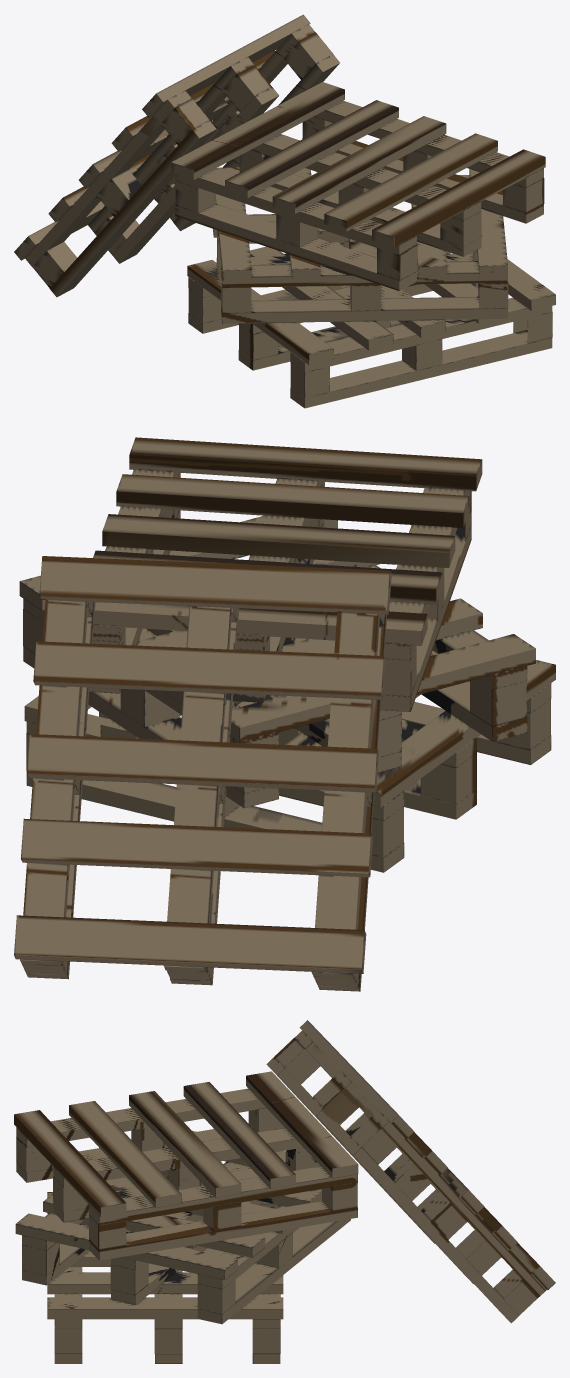
Rendered from pallet1modelo.fbx.
3 renders of one model, top to bottom at view 1: azimuth 30°, elevation 25°; view 2: azimuth 150°, elevation 25°; view 3: azimuth 270°, elevation 25°, orthographic. The views are drawn at different scales.
Visible parts, largest first — view 1: Cube.001; view 2: Cube.001; view 3: Cube.001.
Boxes of the visible parts, bbox=[...] form: Cube.001: bbox=[14, 14, 555, 408]; Cube.001: bbox=[14, 437, 555, 991]; Cube.001: bbox=[14, 1020, 555, 1363].
Bounding box in the file's own units: 4739 × 3027 × 6350.
1 material, 1 textured.
